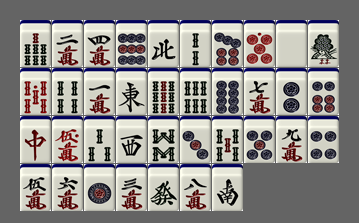0m: (52, 116, 83, 163)
0p: (244, 20, 275, 67)
0s: (20, 68, 51, 115)
1m: (84, 68, 115, 115)
1p: (84, 164, 115, 211)
1s: (308, 20, 339, 67)
1z: (116, 68, 147, 115)
2m: (52, 20, 83, 67)
2p: (276, 68, 307, 115)
2s: (180, 20, 211, 67)
2z: (212, 164, 243, 211)
3m: (116, 164, 147, 211)
3p: (180, 116, 211, 163)
3s: (84, 116, 115, 163)
3z: (116, 116, 147, 163)
4m: (84, 20, 115, 67)
4p: (308, 116, 339, 163)
4s: (52, 68, 83, 115)
4z: (148, 20, 179, 67)
5m: (20, 164, 51, 211)
5p: (244, 116, 275, 163)
5s: (212, 116, 243, 163)
5z: (276, 20, 307, 67)
6m: (52, 164, 83, 211)
6p: (308, 68, 339, 115)
6s: (180, 68, 211, 115)
6z: (148, 164, 179, 211)
7m: (244, 68, 275, 115)
7p: (212, 20, 243, 67)
7s: (20, 20, 51, 67)
7z: (20, 116, 51, 163)
8m: (180, 164, 211, 211)
8p: (212, 68, 243, 115)
8s: (148, 116, 179, 163)
9m: (276, 116, 307, 163)
9p: (116, 20, 147, 67)
9s: (148, 68, 179, 115)
